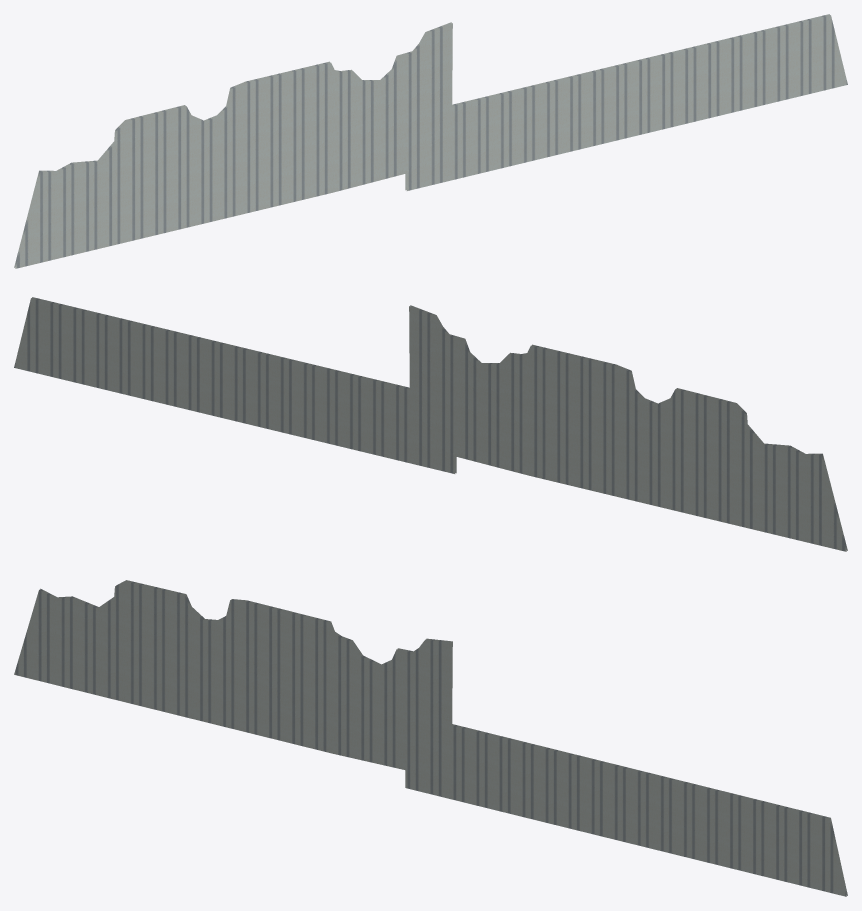
Rendered from floor_73.obj.
The picture shows the model from 3 angles, top to bottom: view 1: azimuth 30°, elevation 25°; view 2: azimuth 150°, elevation 25°; view 3: azimuth 330°, elevation 25°; orthographic projection.
Parts seen in each view (by area): view 1: floor_73; view 2: floor_73; view 3: floor_73.
Boxes of the visible parts, x1,y1,x2,y2 form: floor_73: [14, 14, 847, 268]; floor_73: [14, 297, 847, 551]; floor_73: [14, 580, 847, 896].
Size of the model in its own units: 36.13 by 6.56 by 0.1.
1 material, 1 textured.
